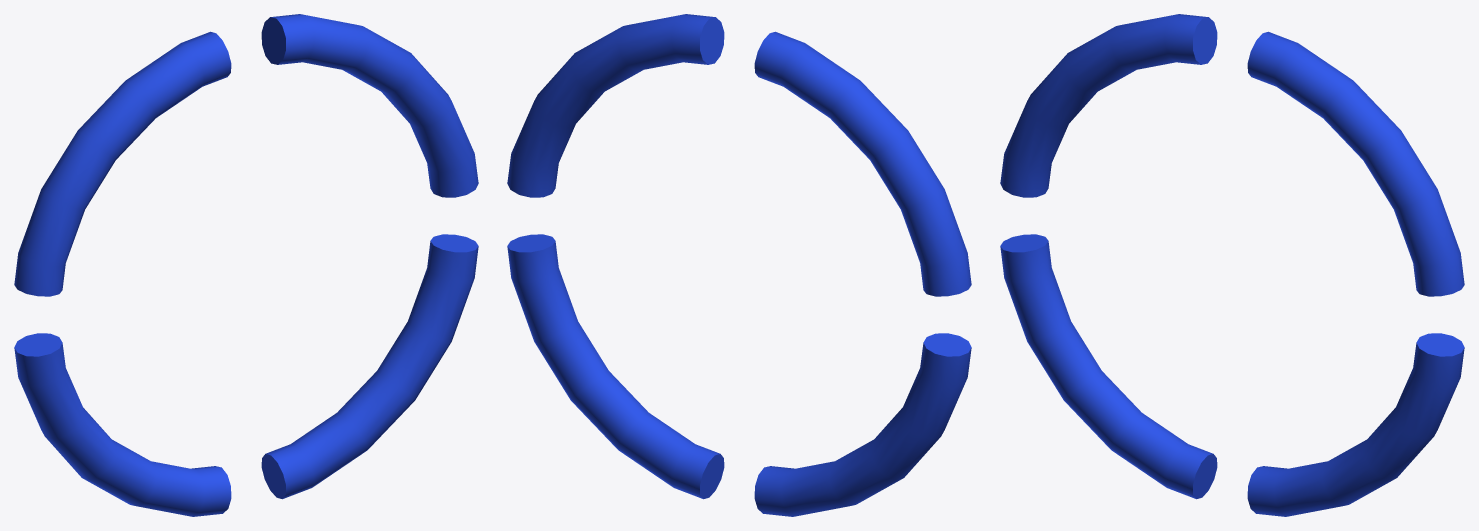
File: GizmoZRotation.fbx
3 views of the same model, side by side, from view 1: azimuth 30°, elevation 25°; view 2: azimuth 150°, elevation 25°; view 3: azimuth 330°, elevation 25° (orthographic).
Parts seen in each view (by area): view 1: Torus.003; view 2: Torus.003; view 3: Torus.003.
Part boxes in pixels (x1,y1,x2,y2): Torus.003: (14,14,478,516); Torus.003: (507,14,971,516); Torus.003: (1000,14,1464,516).
Size of the model in its own units: 216 by 216 by 20.
